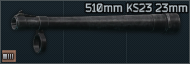KS-23 23x75 510mm barrel: (0, 0, 190, 64)
